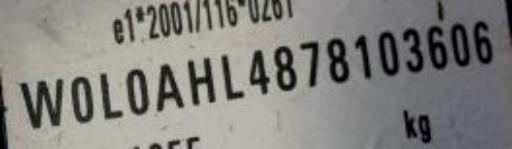letter: (17, 76, 63, 128), (184, 56, 218, 109), (155, 60, 187, 115), (96, 69, 126, 122), (68, 74, 98, 124), (246, 44, 272, 97), (218, 52, 246, 101), (324, 35, 350, 86), (296, 38, 322, 89), (272, 42, 298, 93), (124, 66, 150, 117), (426, 23, 450, 73), (376, 29, 400, 78), (470, 19, 494, 67), (402, 27, 426, 73), (352, 33, 374, 82), (450, 21, 472, 69)
